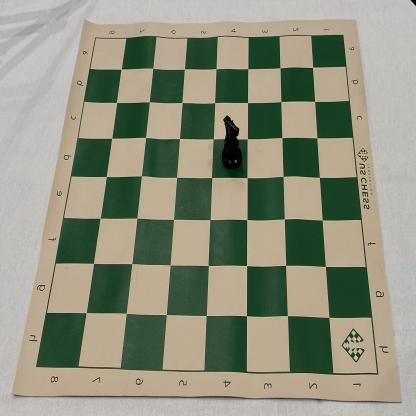black-knight: (221, 116, 243, 170)
